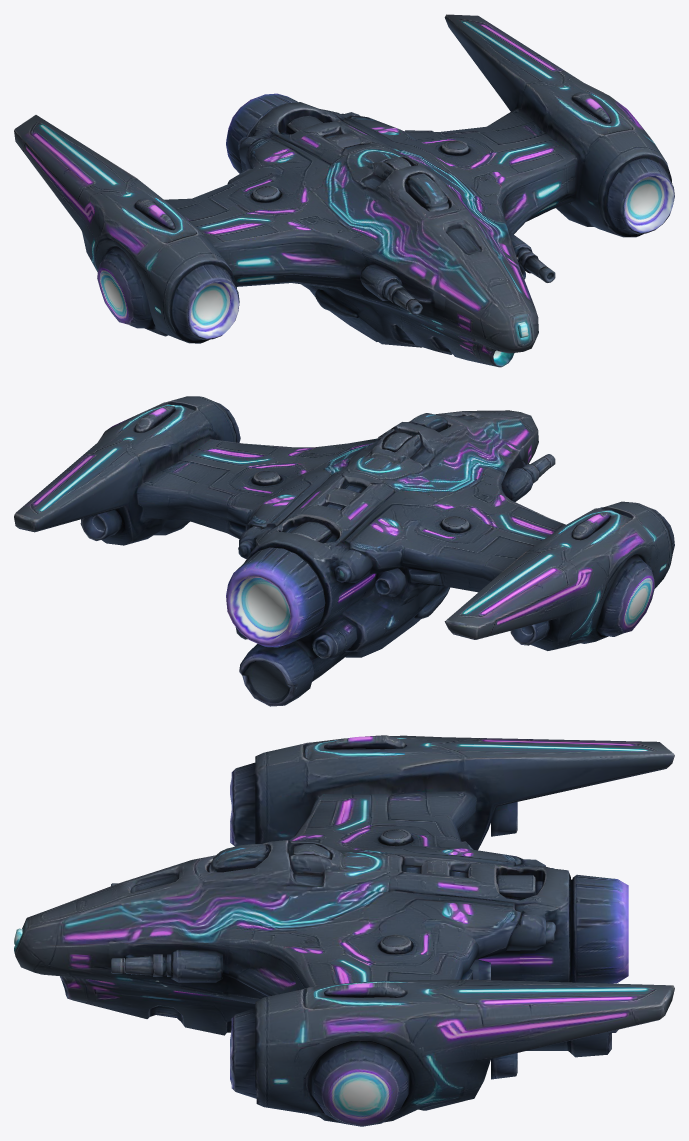
File: enemy_model_04.glb
The picture shows the model from 3 angles, top to bottom: view 1: azimuth 30°, elevation 25°; view 2: azimuth 150°, elevation 25°; view 3: azimuth 270°, elevation 25°; orthographic projection. The views are drawn at different scales.
Parts seen in each view (by area): view 1: tripo_node_9ada2315-5ff8-4ea2-b274-290db3df3494; view 2: tripo_node_9ada2315-5ff8-4ea2-b274-290db3df3494; view 3: tripo_node_9ada2315-5ff8-4ea2-b274-290db3df3494.
Boxes of the visible parts, left/top/right/bottom form: tripo_node_9ada2315-5ff8-4ea2-b274-290db3df3494: left=14, top=14, right=674, bottom=367; tripo_node_9ada2315-5ff8-4ea2-b274-290db3df3494: left=14, top=396, right=674, bottom=706; tripo_node_9ada2315-5ff8-4ea2-b274-290db3df3494: left=14, top=735, right=674, bottom=1126.
Size of the model in its own units: 7.74 by 2.5 by 7.14.
Materials: 1 (1 with a texture image).
